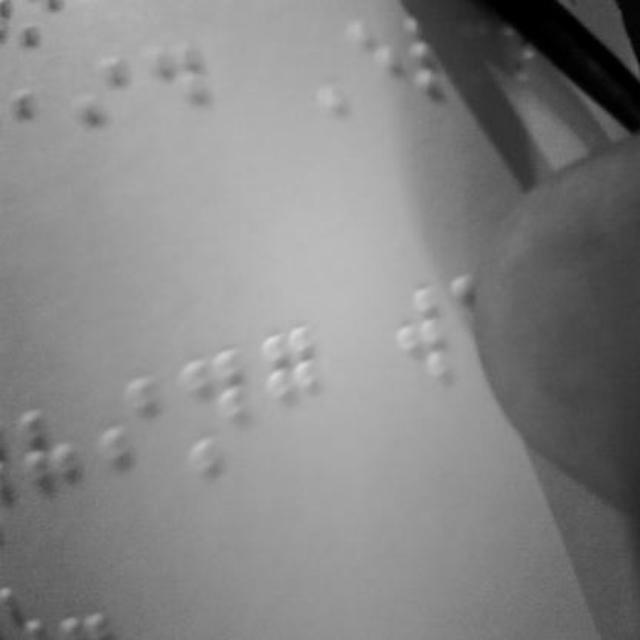braiile: (174, 344, 256, 484), (18, 402, 92, 532), (95, 383, 162, 521), (262, 326, 328, 456), (69, 46, 135, 172), (145, 36, 211, 162), (386, 273, 454, 391), (346, 12, 412, 122), (8, 74, 70, 188)
